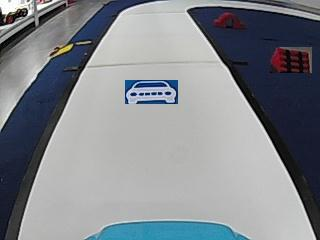bridge: (214, 12, 244, 28)
